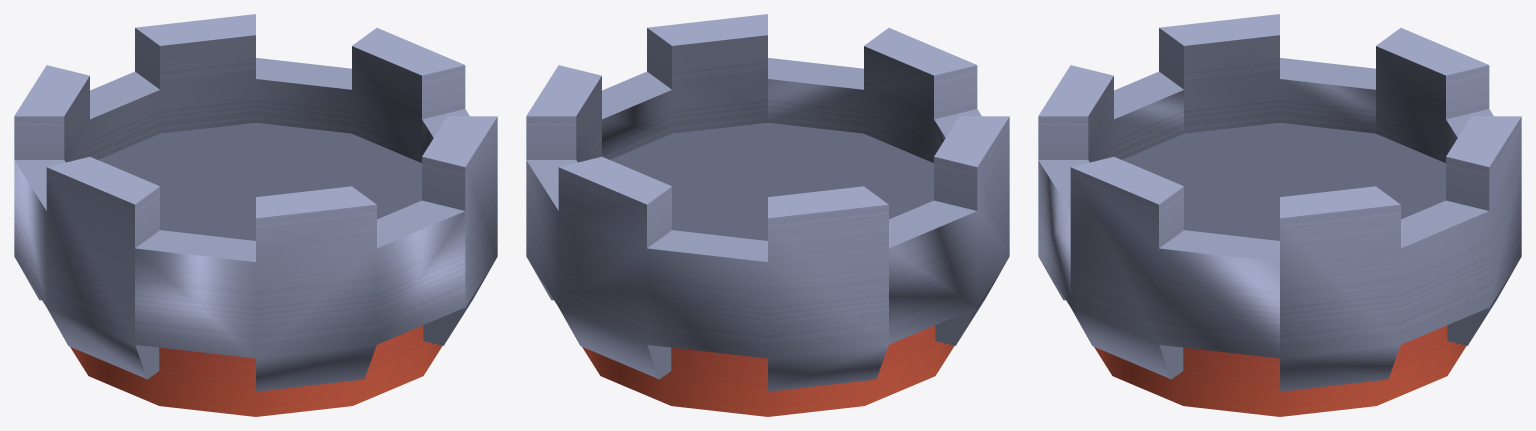
File: tower-round-top-b.glb
The picture shows the model from 3 angles, left to right: view 1: azimuth 30°, elevation 25°; view 2: azimuth 150°, elevation 25°; view 3: azimuth 270°, elevation 25°; orthographic projection.
Visible parts, largest first — view 1: tower-round-top-b; view 2: tower-round-top-b; view 3: tower-round-top-b.
Part boxes in pixels (x1,y1,x2,y2): tower-round-top-b: [14, 14, 497, 416]; tower-round-top-b: [526, 14, 1009, 416]; tower-round-top-b: [1038, 14, 1521, 416].
Bounding box in the file's own units: 1 × 0.5 × 1.
Materials: 1 (1 with a texture image).
